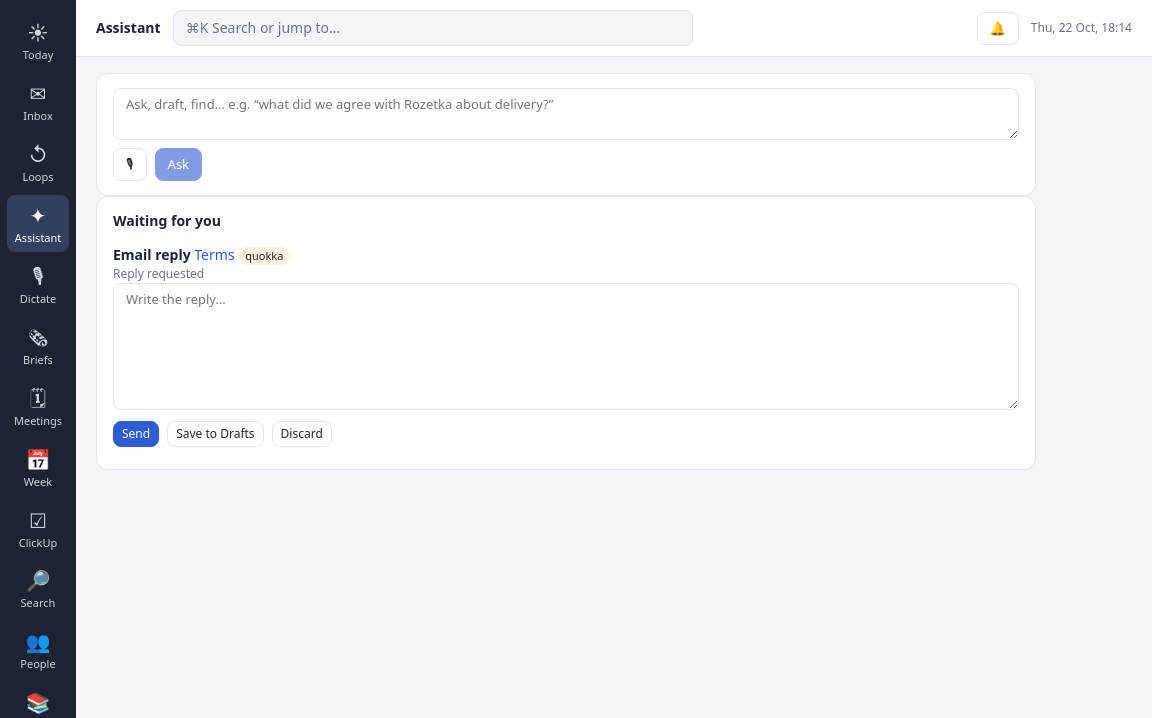
Test: a reply is written, saved to Drafts and listed as saved
This screenshot has width=1152, height=718.
Step 1. Type "Confirmed, thank you." into the text box labelled "reply" → (566, 346), box [113,283,1019,410]
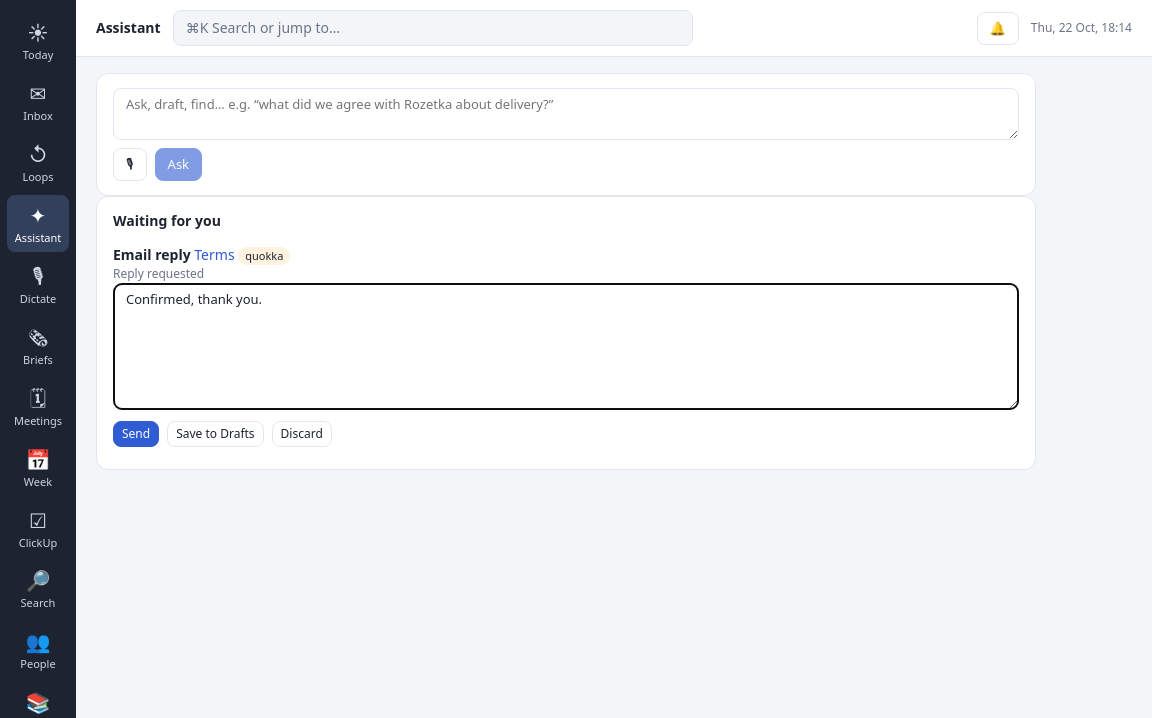
Step 2. Click the button "Save to Drafts" → (215, 434), box [167,421,264,447]
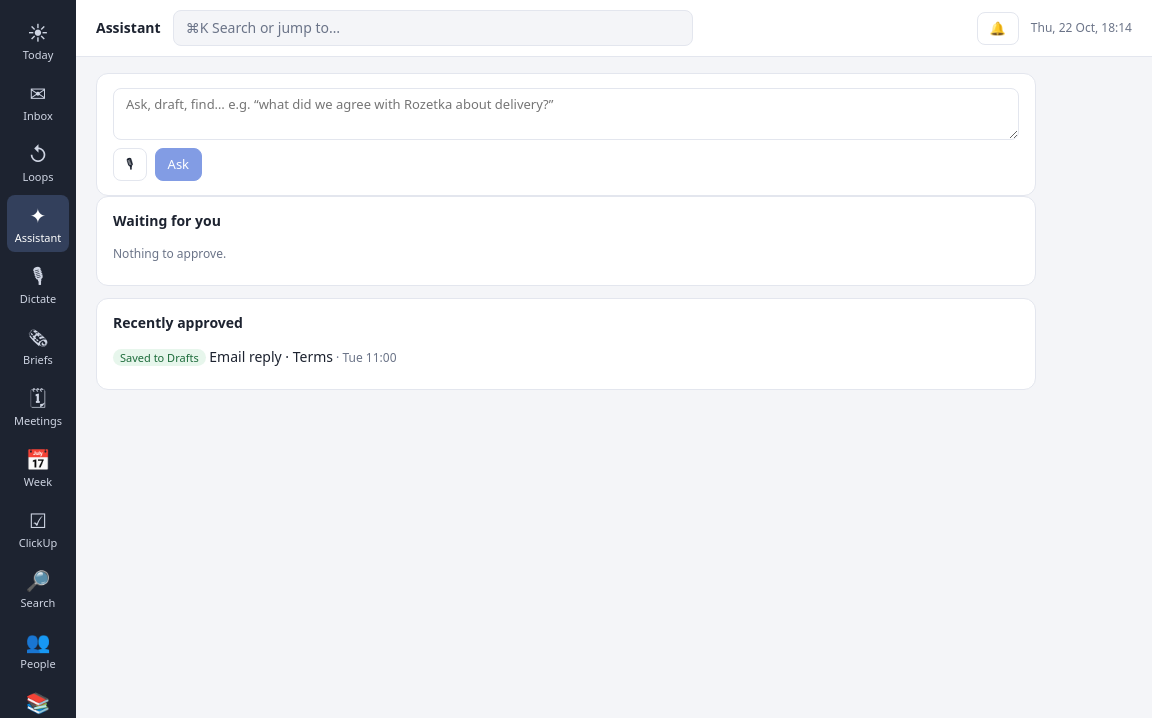
Now the text "Saved to Drafts" is shown, box [113,349,206,366]
Now the list item "Nothing to approve." is shown, box [113,245,226,262]
